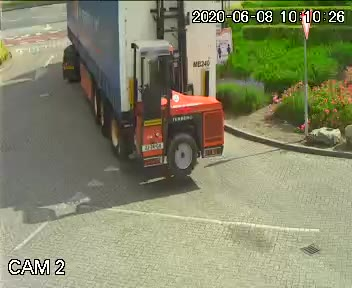car: (34, 0, 259, 203)
